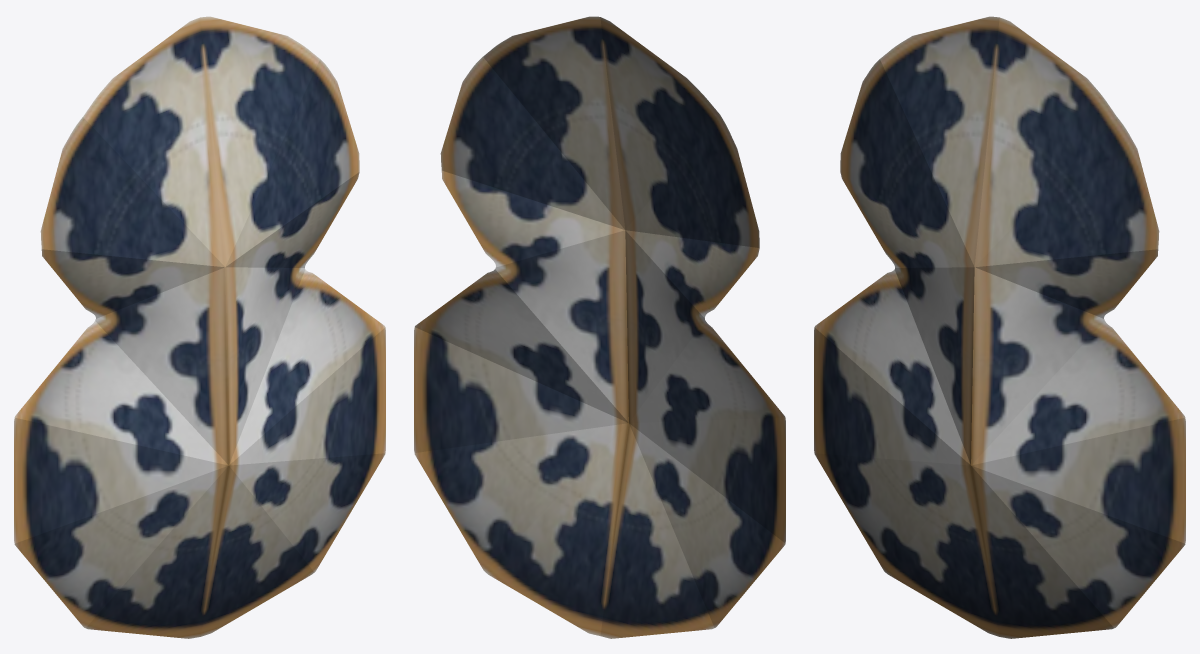
File: shield_eight_back.dae
3 renders of one model, left to right at view 1: azimuth 30°, elevation 25°; view 2: azimuth 150°, elevation 25°; view 3: azimuth 330°, elevation 25°, orthographic.
Parts seen in each view (by area): view 1: eight_shield.002; view 2: eight_shield.002; view 3: eight_shield.002.
Boxes of the visible parts, bbox=[...] form: eight_shield.002: bbox=[14, 16, 385, 638]; eight_shield.002: bbox=[414, 16, 785, 638]; eight_shield.002: bbox=[814, 16, 1185, 638].
Size of the model in its own units: 1.9 by 0.2564 by 3.06.
